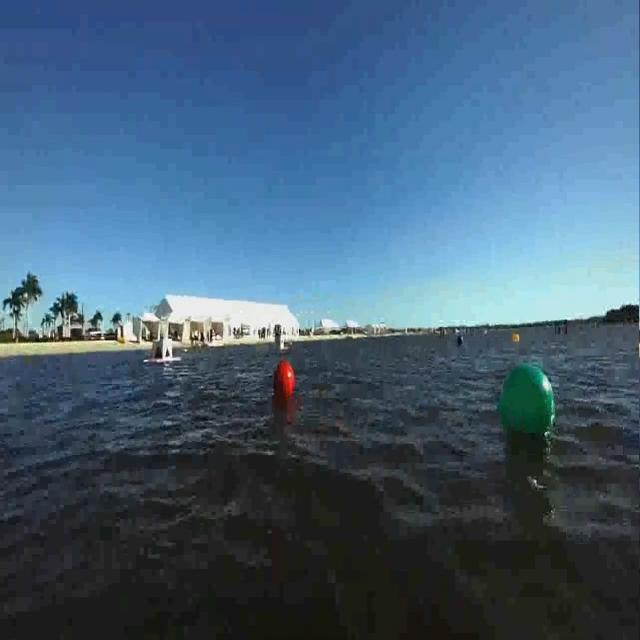blue-buoy: (454, 331, 464, 348)
green-buoy: (497, 362, 558, 444)
red-buoy: (272, 358, 295, 402)
yellow-buoy: (510, 331, 520, 345)
